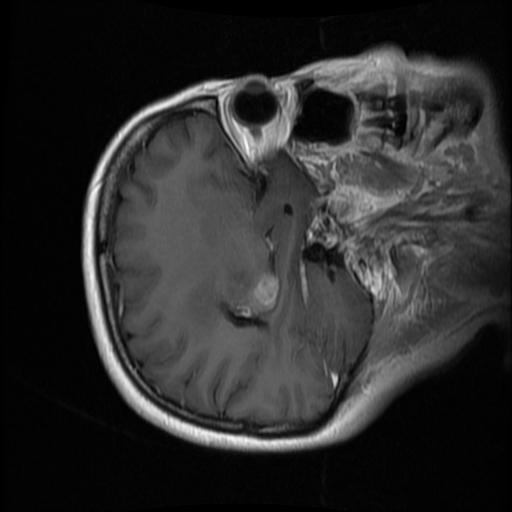glioma: (186, 172, 278, 328)
